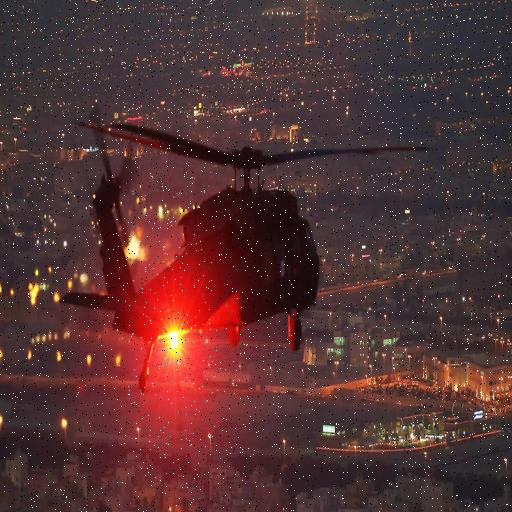helicopter: (68, 114, 436, 348)
